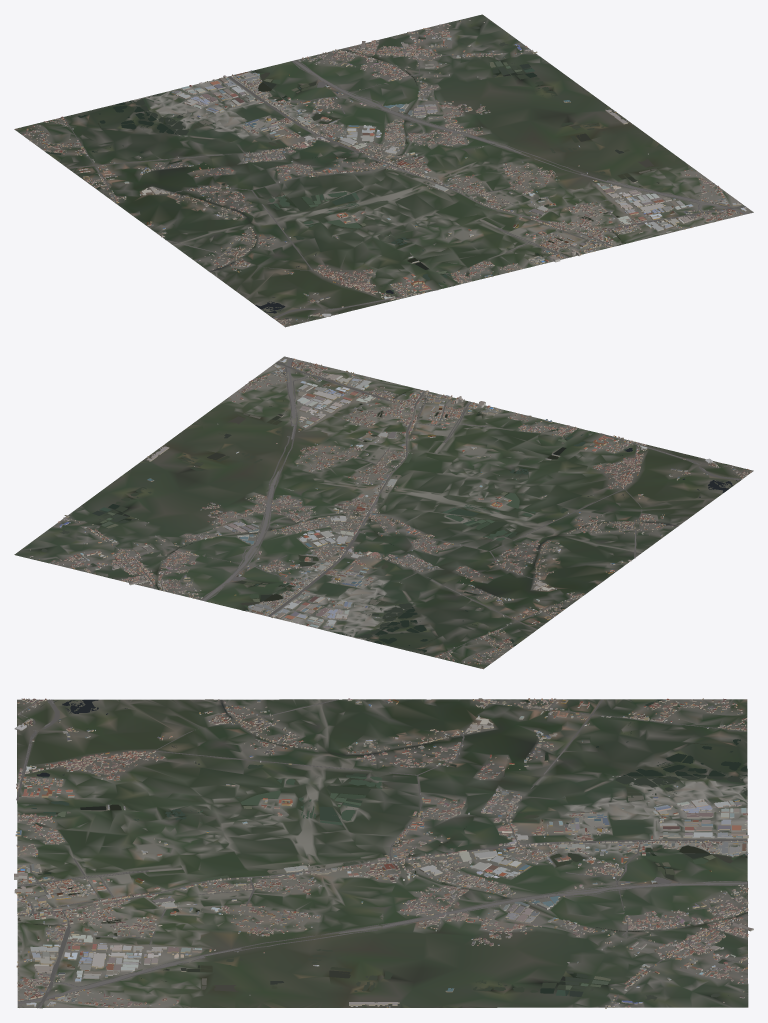
The picture shows the model from 3 angles, top to bottom: view 1: azimuth 30°, elevation 25°; view 2: azimuth 150°, elevation 25°; view 3: azimuth 270°, elevation 25°; orthographic projection. The views are drawn at different scales.
Parts seen in each view (by area): view 1: ground, buildings, water, roads; view 2: ground, buildings, water, roads; view 3: ground, buildings, water, roads.
Boxes of the visible parts, box(x1,y1,x2,y2) form: ground: box(14, 14, 753, 327); buildings: box(22, 18, 746, 325); water: box(46, 24, 659, 318); roads: box(63, 30, 752, 321); ground: box(14, 356, 753, 669); buildings: box(29, 358, 752, 664); water: box(39, 389, 740, 652); roads: box(74, 357, 745, 656); ground: box(17, 699, 748, 1008); buildings: box(14, 698, 753, 1008); water: box(17, 699, 747, 1000); roads: box(16, 699, 748, 1008).
Size of the model in its own units: 5632 by 36.75 by 5681.
